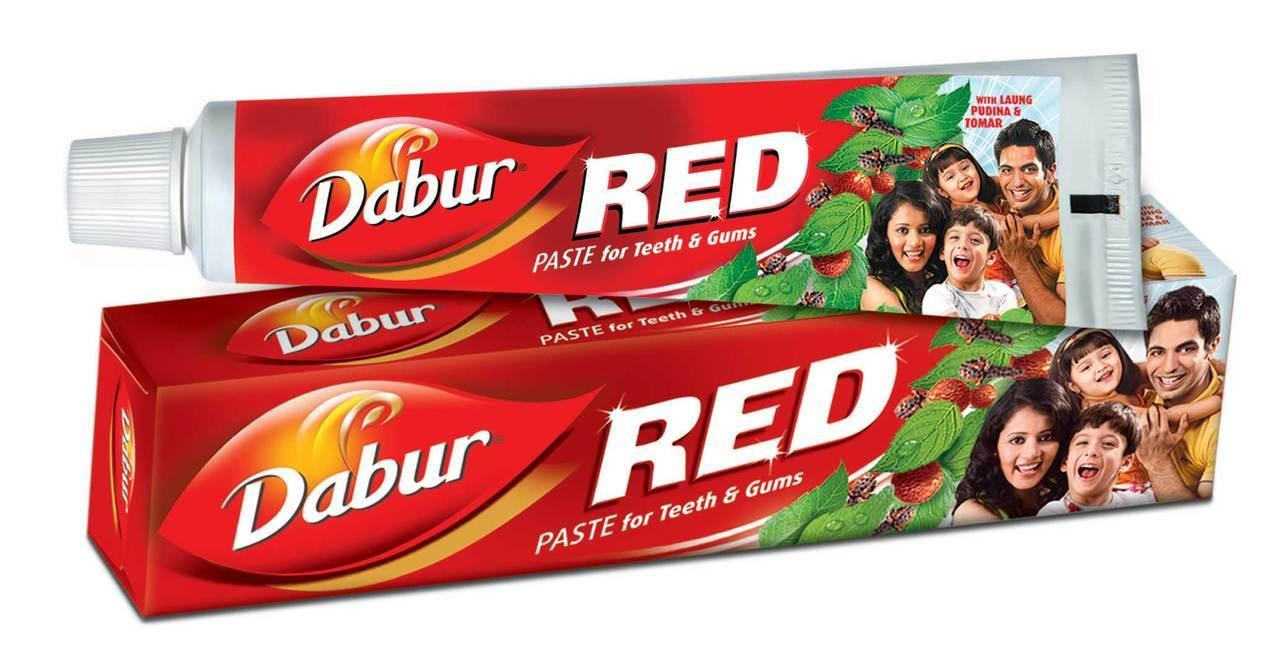toothpaste: (92, 271, 1263, 581), (51, 56, 1146, 335)
